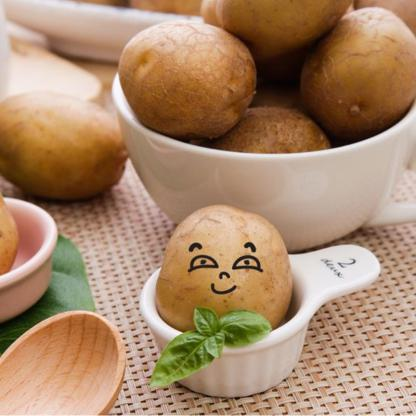potato: (0, 78, 171, 197), (298, 4, 416, 146), (120, 20, 264, 136)
